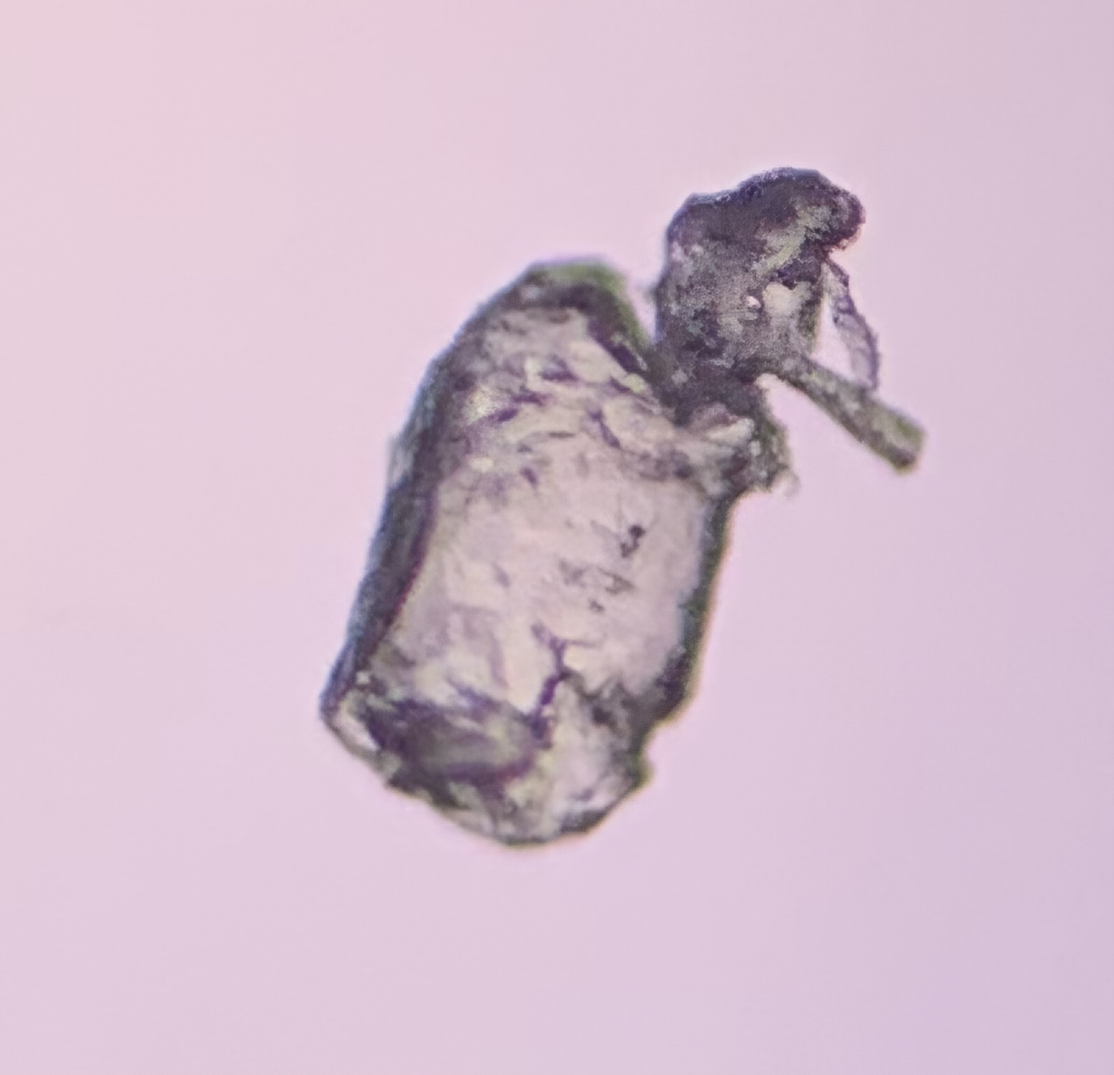microplastic: (318, 165, 927, 847)
